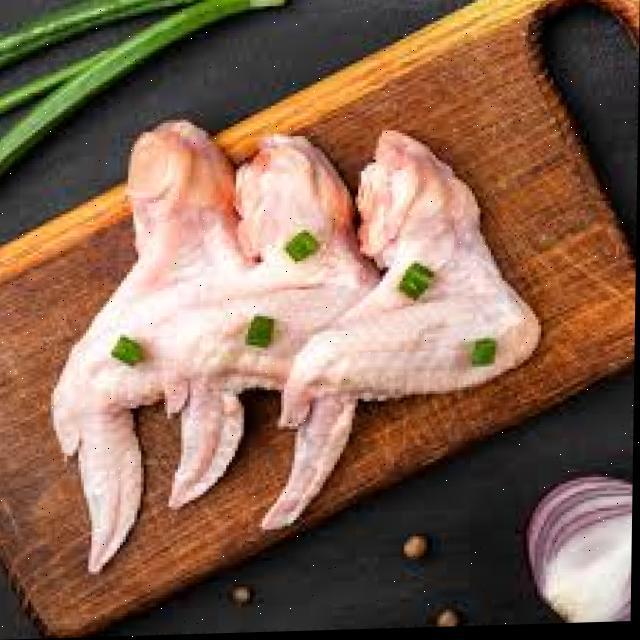wing: (304, 108, 538, 524), (56, 95, 242, 547), (176, 138, 374, 518)
